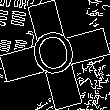O_S: (28, 25, 82, 85)
